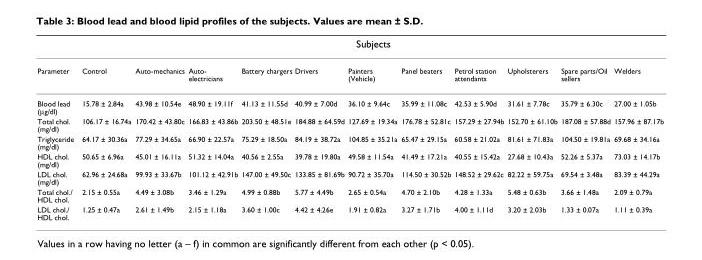table: (36, 37, 663, 220)
table column: (77, 37, 132, 220), (185, 37, 239, 220), (451, 37, 505, 220), (132, 37, 185, 220), (239, 37, 292, 220), (292, 37, 345, 220), (345, 37, 398, 220), (398, 37, 451, 220), (505, 37, 558, 220), (558, 37, 611, 220), (611, 37, 663, 220), (36, 37, 77, 220)
table column header: (36, 37, 663, 90)
table row: (36, 57, 663, 90), (36, 90, 663, 115), (36, 37, 663, 57), (36, 115, 663, 133), (36, 150, 663, 168), (36, 168, 663, 186), (36, 186, 663, 204), (36, 133, 663, 150), (36, 204, 663, 220)
table spanning cell: (77, 37, 663, 57), (36, 37, 77, 90)
